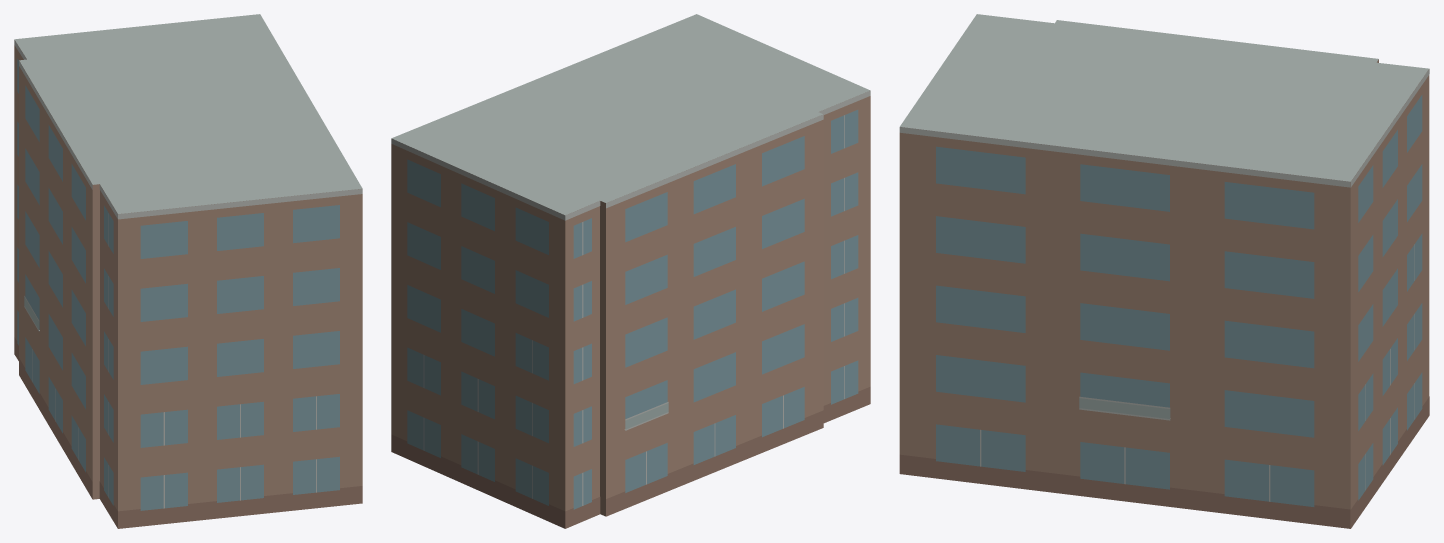
File: survey-upis-32484615.glb
The picture shows the model from 3 angles, left to right: view 1: azimuth 30°, elevation 25°; view 2: azimuth 150°, elevation 25°; view 3: azimuth 270°, elevation 25°; orthographic projection. The views are drawn at different scales.
Visible parts, largest first — view 1: survey-upis-32484615.tmp; view 2: survey-upis-32484615.tmp; view 3: survey-upis-32484615.tmp.
Boxes of the visible parts, left/top/right/bottom form: survey-upis-32484615.tmp: left=14, top=14, right=362, bottom=528; survey-upis-32484615.tmp: left=391, top=14, right=870, bottom=528; survey-upis-32484615.tmp: left=899, top=14, right=1429, bottom=528.
Size of the model in its own units: 14.93 by 14.4 by 19.93.
